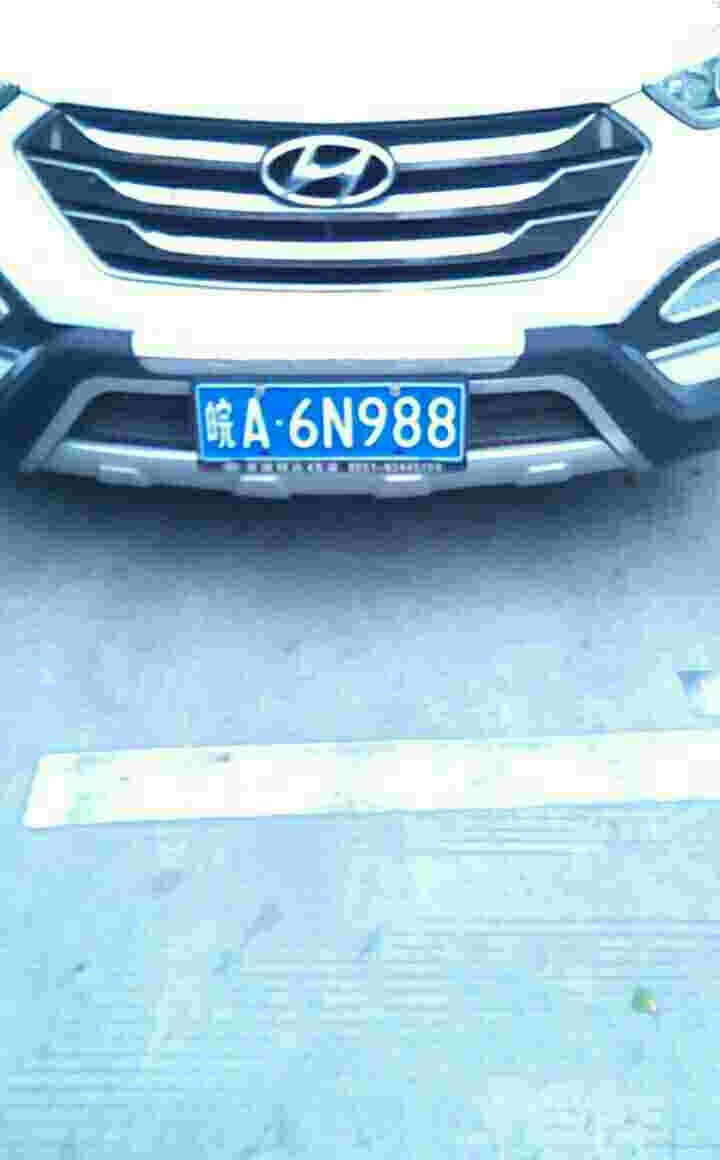license_plate: (188, 381, 466, 460)
